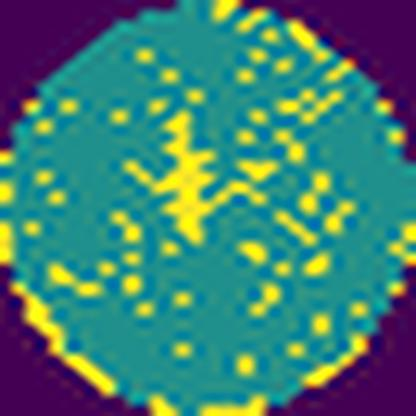Loc: (122, 109, 264, 240)
